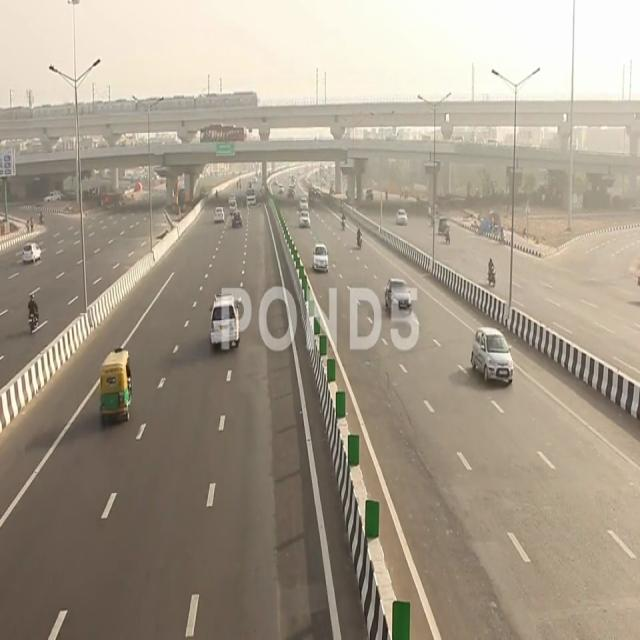car: (469, 326, 515, 400), (205, 288, 243, 349), (384, 277, 415, 325), (312, 238, 332, 282)
motorbike: (484, 249, 503, 298), (25, 290, 41, 340)
rikshaw: (95, 349, 135, 431)
